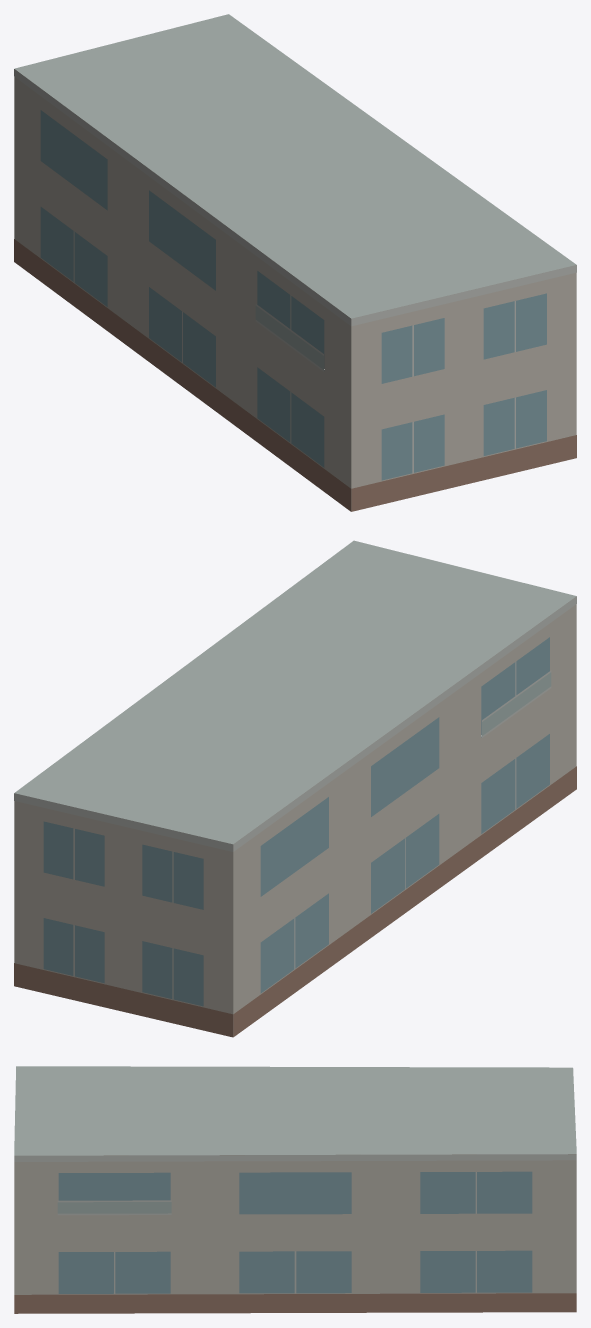
File: survey-upis-32965269.glb
The picture shows the model from 3 angles, top to bottom: view 1: azimuth 30°, elevation 25°; view 2: azimuth 150°, elevation 25°; view 3: azimuth 270°, elevation 25°; orthographic projection. The views are drawn at different scales.
Parts seen in each view (by area): view 1: survey-upis-32965269.tmp; view 2: survey-upis-32965269.tmp; view 3: survey-upis-32965269.tmp.
Part boxes in pixels (<box>): survey-upis-32965269.tmp: <box>14,14,576,511</box>; survey-upis-32965269.tmp: <box>14,540,576,1037</box>; survey-upis-32965269.tmp: <box>14,1066,576,1313</box>.
Bounding box in the file's own units: 7.47 × 6.1 × 19.7.
